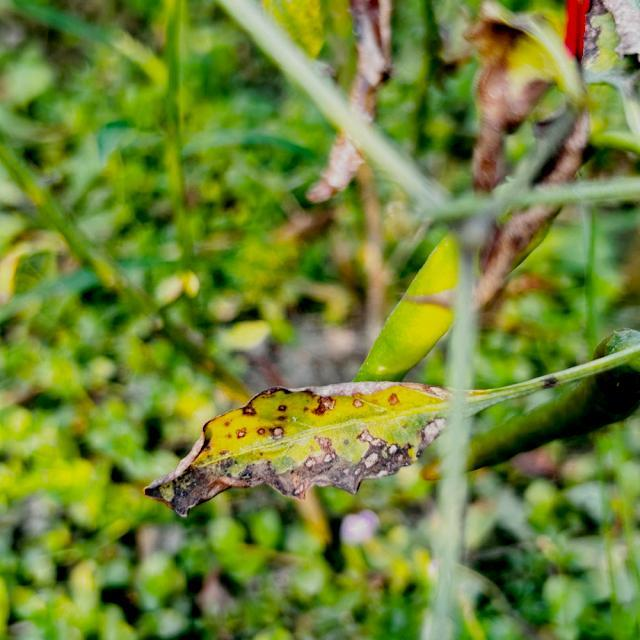Bercak Daun Serkospora: (142, 378, 508, 517)
